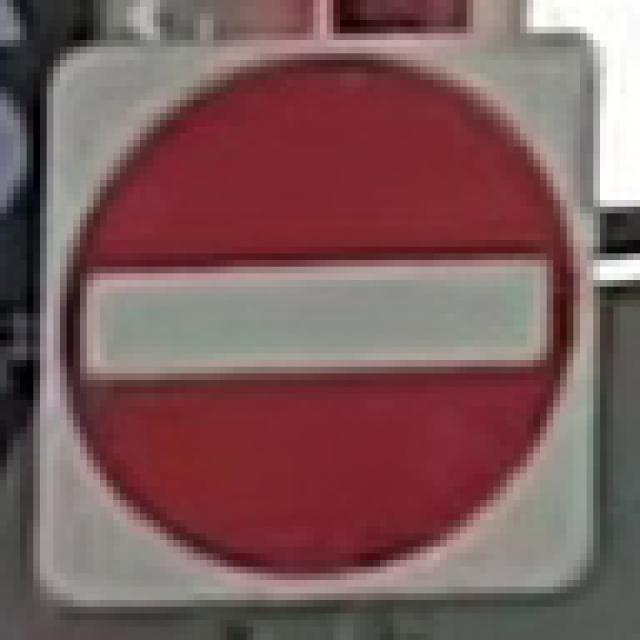noentry_sign: (27, 33, 600, 607)
